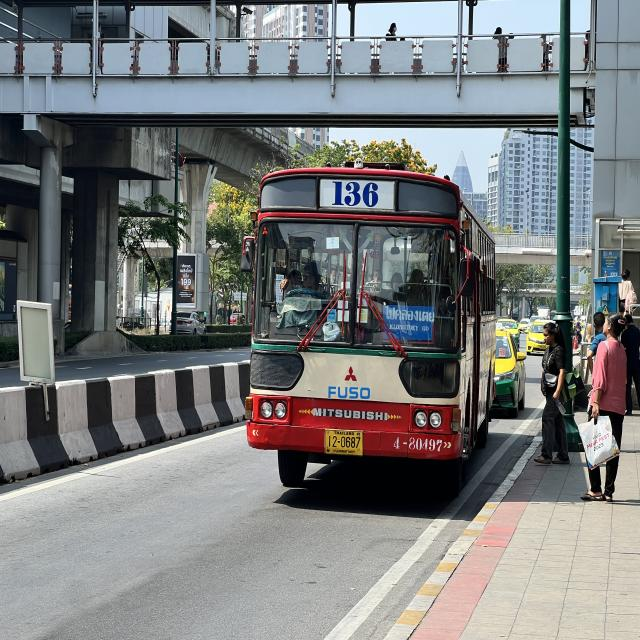BMTA-bus: (242, 167, 496, 491)
Bus-Line-Number: (319, 177, 398, 213)
Destination-Sign-Normal: (380, 304, 438, 342)
